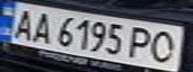1: (69, 17, 93, 51)
5: (106, 20, 130, 56)
6: (51, 15, 75, 47)
9: (87, 19, 109, 53)
A: (6, 6, 39, 42), (27, 9, 57, 45)
O: (145, 29, 184, 65)
P: (124, 25, 160, 61)
